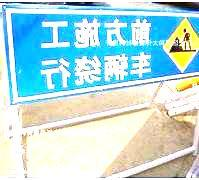sign: (5, 4, 199, 91)
